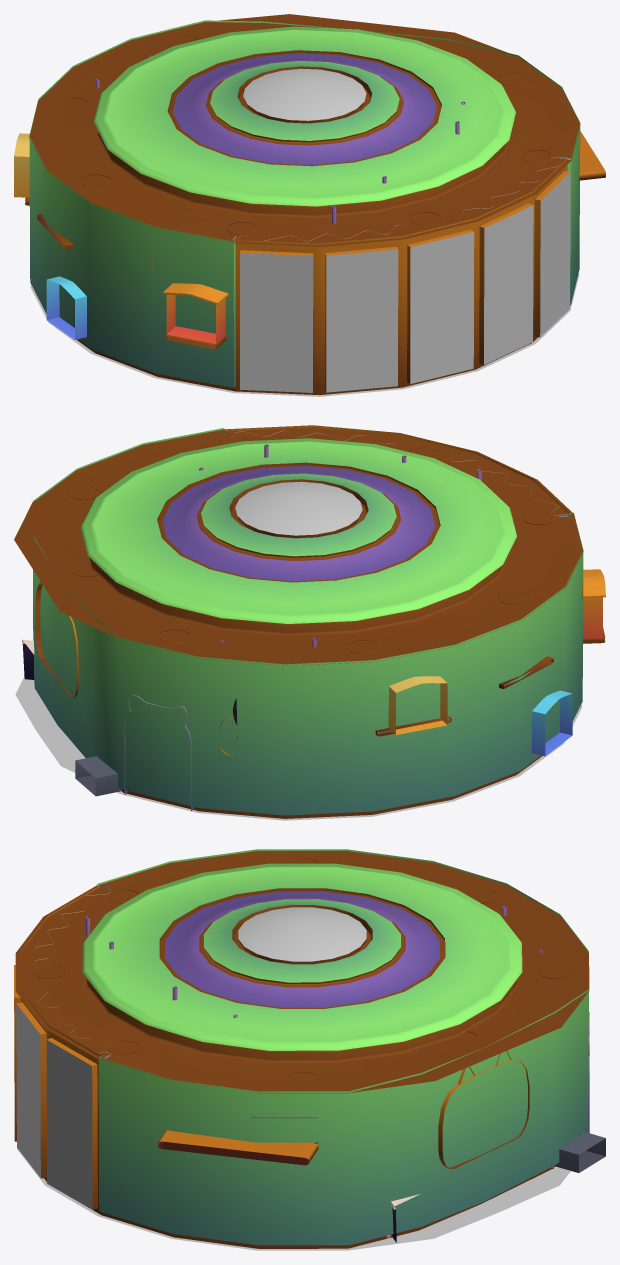
The model's file is Cafe2.fbx.
The picture shows the model from 3 angles, top to bottom: view 1: azimuth 30°, elevation 25°; view 2: azimuth 150°, elevation 25°; view 3: azimuth 270°, elevation 25°; orthographic projection. The views are drawn at different scales.
Visible parts, largest first — view 1: Roof, Wall1, Windows, Cat_Box6, Cat_Box3, Floor, Cat_Box7, Platform; view 2: Roof, Wall1, Floor, Cat_Box3, Cat_Box6, Cat_Box7, Vent, Cat_Box5; view 3: Roof, Wall1, Windows, Floor, Platform, Vent, Cat_Box5.
Boxes of the visible parts, left/top/right/bottom form: Roof: left=29, top=14, right=580, bottom=246; Wall1: left=29, top=20, right=580, bottom=394; Windows: left=240, top=172, right=570, bottom=392; Cat_Box6: left=163, top=283, right=228, bottom=344; Cat_Box3: left=46, top=276, right=86, bottom=339; Floor: left=30, top=273, right=579, bottom=396; Cat_Box7: left=14, top=133, right=29, bottom=197; Platform: left=579, top=131, right=605, bottom=180; Roof: left=14, top=425, right=583, bottom=665; Wall1: left=32, top=425, right=583, bottom=818; Floor: left=15, top=677, right=582, bottom=820; Cat_Box3: left=532, top=690, right=572, bottom=756; Cat_Box6: left=583, top=569, right=605, bottom=638; Cat_Box7: left=388, top=676, right=447, bottom=734; Vent: left=75, top=756, right=121, bottom=796; Cat_Box5: left=35, top=582, right=78, bottom=697; Roof: left=15, top=851, right=589, bottom=1093; Wall1: left=14, top=849, right=588, bottom=1248; Windows: left=16, top=1004, right=92, bottom=1209; Floor: left=17, top=1148, right=570, bottom=1250; Platform: left=158, top=1130, right=318, bottom=1165; Vent: left=555, top=1132, right=605, bottom=1172; Cat_Box5: left=438, top=1051, right=529, bottom=1168.
Bounding box in the file's own units: 1897 × 716 × 1798.
